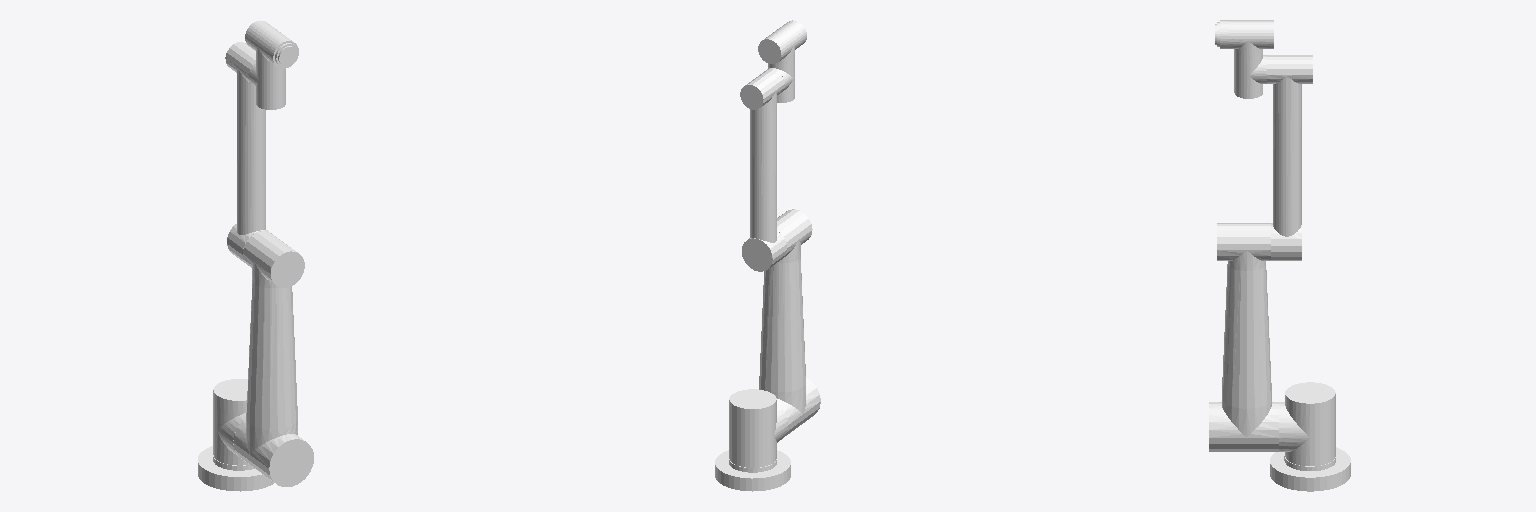
robot.urdf — aubo_iS10_T1:
<?xml version="1.0"?>
<robot  name="aubo_iS10_T1">
  <dh_type type="modified"/>
  <safety_para singularity_consistent="0.02 0.01 10 0.2 0.045 10"/>
  <link name="base_link">
    <inertial>
      <origin xyz="0.00038 0.00471 0.01913" rpy="0 0 0" />
      <mass value="2.02203" />
      <inertia ixx="0.00676" ixy="-0.00004" ixz="0.00001" iyy="0.00628" iyz="-0.00007" izz="0.01215" />
    </inertial>
    <visual>
      <origin xyz="0 0 0" rpy="0 0 0" />
      <geometry>
        <mesh filename="package://aubo_description/meshes/aubo_iS10_T1/collision/link0.STL" />
      </geometry>
      <material name="">
        <color rgba="1 1 1 1" />
      </material>
    </visual>
    <collision>
      <origin xyz="0 0 0" rpy="0 0 0" />
      <geometry>
        <mesh filename="package://aubo_description/meshes/aubo_iS10_T1/collision/link0.STL" />
      </geometry>
    </collision>
  </link>

  <link name="shoulder_Link">
    <inertial>
      <origin xyz="0.000013 0.00391 -0.027601" rpy="0 0 0" />
      <mass value="9.55599784" />
      <inertia ixx="0.03704" ixy="0.00001" ixz="0.00004" iyy="0.03629" iyz="-0.00112" izz="0.02738" />
    </inertial>
    <visual>
      <origin xyz="0 0 0" rpy="0 0 0" />
      <geometry>
        <mesh filename="package://aubo_description/meshes/aubo_iS10_T1/collision/link1.STL" />
      </geometry>
      <material name="">
        <color rgba="1 1 1 1" />
      </material>
    </visual>
    <collision>
      <origin xyz="0 0 0" rpy="0 0 0" />
      <geometry>
        <mesh filename="package://aubo_description/meshes/aubo_iS10_T1/collision/link1.STL" />
      </geometry>
    </collision>
  </link>

  <joint name="shoulder_joint" type="revolute">
    <origin xyz="0 0 0.157" rpy="0 0 3.1415926535897932384626433832795" />
    <parent link="base_link" />
    <child link="shoulder_Link" />
    <axis xyz="0 0 1" />
    <limit lower="-6.283185307179586476925286766559" upper="6.283185307179586476925286766559" effort="267" start_stop="433" velocity="3.106686" />
    <property inertia="4.9" damping="0" stiffness="0" offset="0" motor_constant="9.54" ratio="101"/>
  </joint>

  <link name="upperArm_Link">
    <inertial>
      <origin xyz="0.21436 0.00001 -0.01184" rpy="0 0 0" />
      <mass value="16.7475" />
      <inertia ixx="0.0561" ixy="0.00005" ixz="-0.02225" iyy="1.25634" iyz="-0.00003" izz="1.24286" />
    </inertial>
    <visual>
      <origin xyz="0 0 0" rpy="0 0 0" />
      <geometry>
        <mesh filename="package://aubo_description/meshes/aubo_iS10_T1/collision/link2.STL" />
      </geometry>
      <material name="">
        <color rgba="1 1 1 1" />
      </material>
    </visual>
    <collision>
      <origin xyz="0 0 0" rpy="0 0 0" />
      <geometry>
        <mesh filename="package://aubo_description/meshes/aubo_iS10_T1/collision/link2.STL" />
      </geometry>
    </collision>
  </link>

  <joint name="upperArm_joint" type="revolute">
    <origin xyz="0 0.185 0" rpy="-1.5707963267948966192313216916398 -1.5707963267948966192313216916398 0" />
    <parent link="shoulder_Link" />
    <child link="upperArm_Link" />
    <axis xyz="0 0 1" />
    <limit lower="-6.283185307179586476925286766559" upper="6.283185307179586476925286766559" effort="267" start_stop="433" velocity="3.106686" />
    <property inertia="4.9" damping="0" stiffness="0" offset="0" motor_constant="9.54" ratio="101"/>
  </joint>

  <link name="foreArm_Link">
    <inertial>
      <origin xyz="0.42241 0.0 0.10169" rpy="0 0 0" />
      <mass  value="3.93199" />
      <inertia ixx="0.00586" ixy="0.00001" ixz="0.00193" iyy="0.17192" iyz="0" izz="0.1708" />
    </inertial>
    <visual>
      <origin xyz="0 0 0" rpy="0 0 0" />
      <geometry>
        <mesh filename="package://aubo_description/meshes/aubo_iS10_T1/collision/link3.STL" />
      </geometry>
      <material name="">
        <color rgba="1 1 1 1" />
      </material>
    </visual>
    <collision>
      <origin xyz="0 0 0" rpy="0 0 0" />
      <geometry>
        <mesh filename="package://aubo_description/meshes/aubo_iS10_T1/collision/link3.STL" />
      </geometry>
    </collision>
  </link>

  <joint name="foreArm_joint" type="revolute">
    <origin xyz="0.613 0 0" rpy="-3.1415926535897932384626433832795 0 0" />
    <parent link="upperArm_Link" />
    <child link="foreArm_Link" />
    <axis xyz="0 0 1" />
    <limit lower="-6.283185307179586476925286766559" upper="6.283185307179586476925286766559" effort="133" start_stop="207" velocity="4.146902" />
    <property inertia="0.77" damping="0" stiffness="0" offset="0" motor_constant="8.72" ratio="101"/>
  </joint>

  <link name="wrist1_Link">
    <inertial>
      <origin xyz="0.00 0.01586 -0.00161" rpy="0 0 0" />
      <mass value="2.19734" />
      <inertia ixx="0.00317" ixy="0" ixz="0" iyy="0.00202" iyz="-0.00007" izz="0.00314" />
    </inertial>
    <visual>
      <origin xyz="0 0 0" rpy="0 0 0" />
      <geometry>
        <mesh filename="package://aubo_description/meshes/aubo_iS10_T1/collision/link4.STL" />
      </geometry>
      <material name="">
        <color rgba="1 1 1 1" />
      </material>
    </visual>
    <collision>
      <origin xyz="0 0 0" rpy="0 0 0" />
      <geometry>
        <mesh filename="package://aubo_description/meshes/aubo_iS10_T1/collision/link4.STL" />
      </geometry>
    </collision>
  </link>

  <joint name="wrist1_joint" type="revolute">
    <origin xyz="0.572 0 0" rpy="3.1415926535897932384626433832795 0 1.5707963267948966192313216916398" />
    <parent link="foreArm_Link" />
    <child link="wrist1_Link" />
    <axis xyz="0 0 1" />
    <limit lower="-6.283185307179586476925286766559" upper="6.283185307179586476925286766559" effort="33" start_stop="56" velocity="5.17141057" />
    <property inertia="0.25" damping="0" stiffness="0" offset="0" motor_constant="8.81" ratio="81"/>
  </joint>

  <link name="wrist2_Link">
    <inertial>
      <origin xyz="0.000 -0.01586 -0.00161" rpy="0 0 0" />
      <mass value="2.19734" />
      <inertia ixx="0.00317" ixy="0" ixz="0" iyy="0.00202" iyz="0.00007" izz="0.00314" />
    </inertial>
    <visual>
      <origin xyz="0 0 0" rpy="0 0 0" />
      <geometry>
        <mesh filename="package://aubo_description/meshes/aubo_iS10_T1/collision/link5.STL" />
      </geometry>
      <material name="">
        <color rgba="1 1 1 1" />
      </material>
    </visual>
    <collision>
      <origin xyz="0 0 0" rpy="0 0 0" />
      <geometry>
        <mesh filename="package://aubo_description/meshes/aubo_iS10_T1/collision/link5.STL" />
      </geometry>
    </collision>
  </link>

  <joint name="wrist2_joint" type="revolute">
    <origin xyz="0 0.115 0" rpy="-1.5707963267948966192313216916398 0 0" />
    <parent link="wrist1_Link" />
    <child link="wrist2_Link" />
    <axis xyz="0 0 1" />
    <limit lower="-6.283185307179586476925286766559" upper="6.283185307179586476925286766559" effort="33" start_stop="56" velocity="5.17141057" />
    <property inertia="0.25" damping="0" stiffness="0" offset="0" motor_constant="8.81" ratio="81"/>
  </joint>

  <link name="wrist3_Link">
    <inertial>
      <origin xyz="-0.00076 0.00033 -0.01811" rpy="0 0 0" />
      <mass value="0.30296" />
      <inertia ixx="0.00019" ixy="0" ixz="0" iyy="0.0002" iyz="0" izz="0.00032" />
    </inertial>
    <visual>
      <origin xyz="0 0 0" rpy="0 0 0" />
      <geometry>
        <mesh filename="package://aubo_description/meshes/aubo_iS10_T1/collision/link6.STL" />
      </geometry>
      <material name="">
        <color rgba="1 1 1 1" />
      </material>
    </visual>
    <collision>
      <origin xyz="0 0 0" rpy="0 0 0" />
      <geometry>
        <mesh filename="package://aubo_description/meshes/aubo_iS10_T1/collision/link6.STL" />
      </geometry>
    </collision>
  </link>

  <joint name="wrist3_joint" type="revolute">
    <origin xyz="0 -0.102 0" rpy="1.5707963267948966192313216916398 0 1.7907E-15" />
    <parent link="wrist2_Link" />
    <child link="wrist3_Link" />
    <axis xyz="0 0 1" />
    <limit lower="-6.283185307179586476925286766559" upper="6.283185307179586476925286766559" effort="33" start_stop="56" velocity="5.17141057" />
    <property inertia="0.25" damping="0" stiffness="0" offset="0" motor_constant="8.81" ratio="81"/>
  </joint>

  <link name="world" />

  <joint name="world_joint" type="fixed">
    <parent link="world" />
    <child link = "base_link" />
    <origin xyz="0.0 0.0 0.0" rpy="0.0 0.0 0.0" />
  </joint>
</robot>

--- What the picture shows (computed from the rendered views, not written in the file) ---
3 views of the same robot in one strip: view 1: azimuth 30°, elevation 25°; view 2: azimuth 150°, elevation 25°; view 3: azimuth 270°, elevation 25° (orthographic).
Robot: aubo_iS10_T1 — 8 links, 7 joints (6 revolute, 1 fixed); root link world; default pose: all joints at 0.
Visible links, largest first — view 1: upperArm_Link, foreArm_Link, shoulder_Link, base_link, wrist1_Link, wrist2_Link, wrist3_Link; view 2: upperArm_Link, foreArm_Link, shoulder_Link, base_link, wrist2_Link, wrist1_Link; view 3: upperArm_Link, foreArm_Link, shoulder_Link, base_link, wrist2_Link, wrist1_Link.
Link boxes in pixels (left/top/right/bottom): upperArm_Link: left=233, top=231, right=313, bottom=486; foreArm_Link: left=225, top=42, right=271, bottom=262; shoulder_Link: left=213, top=379, right=249, bottom=465; base_link: left=198, top=446, right=273, bottom=491; wrist1_Link: left=249, top=62, right=285, bottom=109; wrist2_Link: left=245, top=20, right=288, bottom=66; wrist3_Link: left=269, top=38, right=298, bottom=68; upperArm_Link: left=759, top=209, right=820, bottom=435; foreArm_Link: left=740, top=69, right=786, bottom=271; shoulder_Link: left=729, top=389, right=787, bottom=467; base_link: left=715, top=450, right=790, bottom=491; wrist2_Link: left=758, top=24, right=802, bottom=63; wrist1_Link: left=767, top=60, right=794, bottom=102; upperArm_Link: left=1209, top=223, right=1278, bottom=451; foreArm_Link: left=1267, top=55, right=1312, bottom=260; shoulder_Link: left=1279, top=382, right=1335, bottom=465; base_link: left=1270, top=447, right=1350, bottom=491; wrist2_Link: left=1229, top=20, right=1273, bottom=56; wrist1_Link: left=1234, top=52, right=1266, bottom=98.
Bounding box of the posed robot: 0.2432 × 0.4269 × 1.5 m (x, y, z).
Meshes: 7 distinct files referenced, 7 mesh visuals loaded (7 binary STL).
